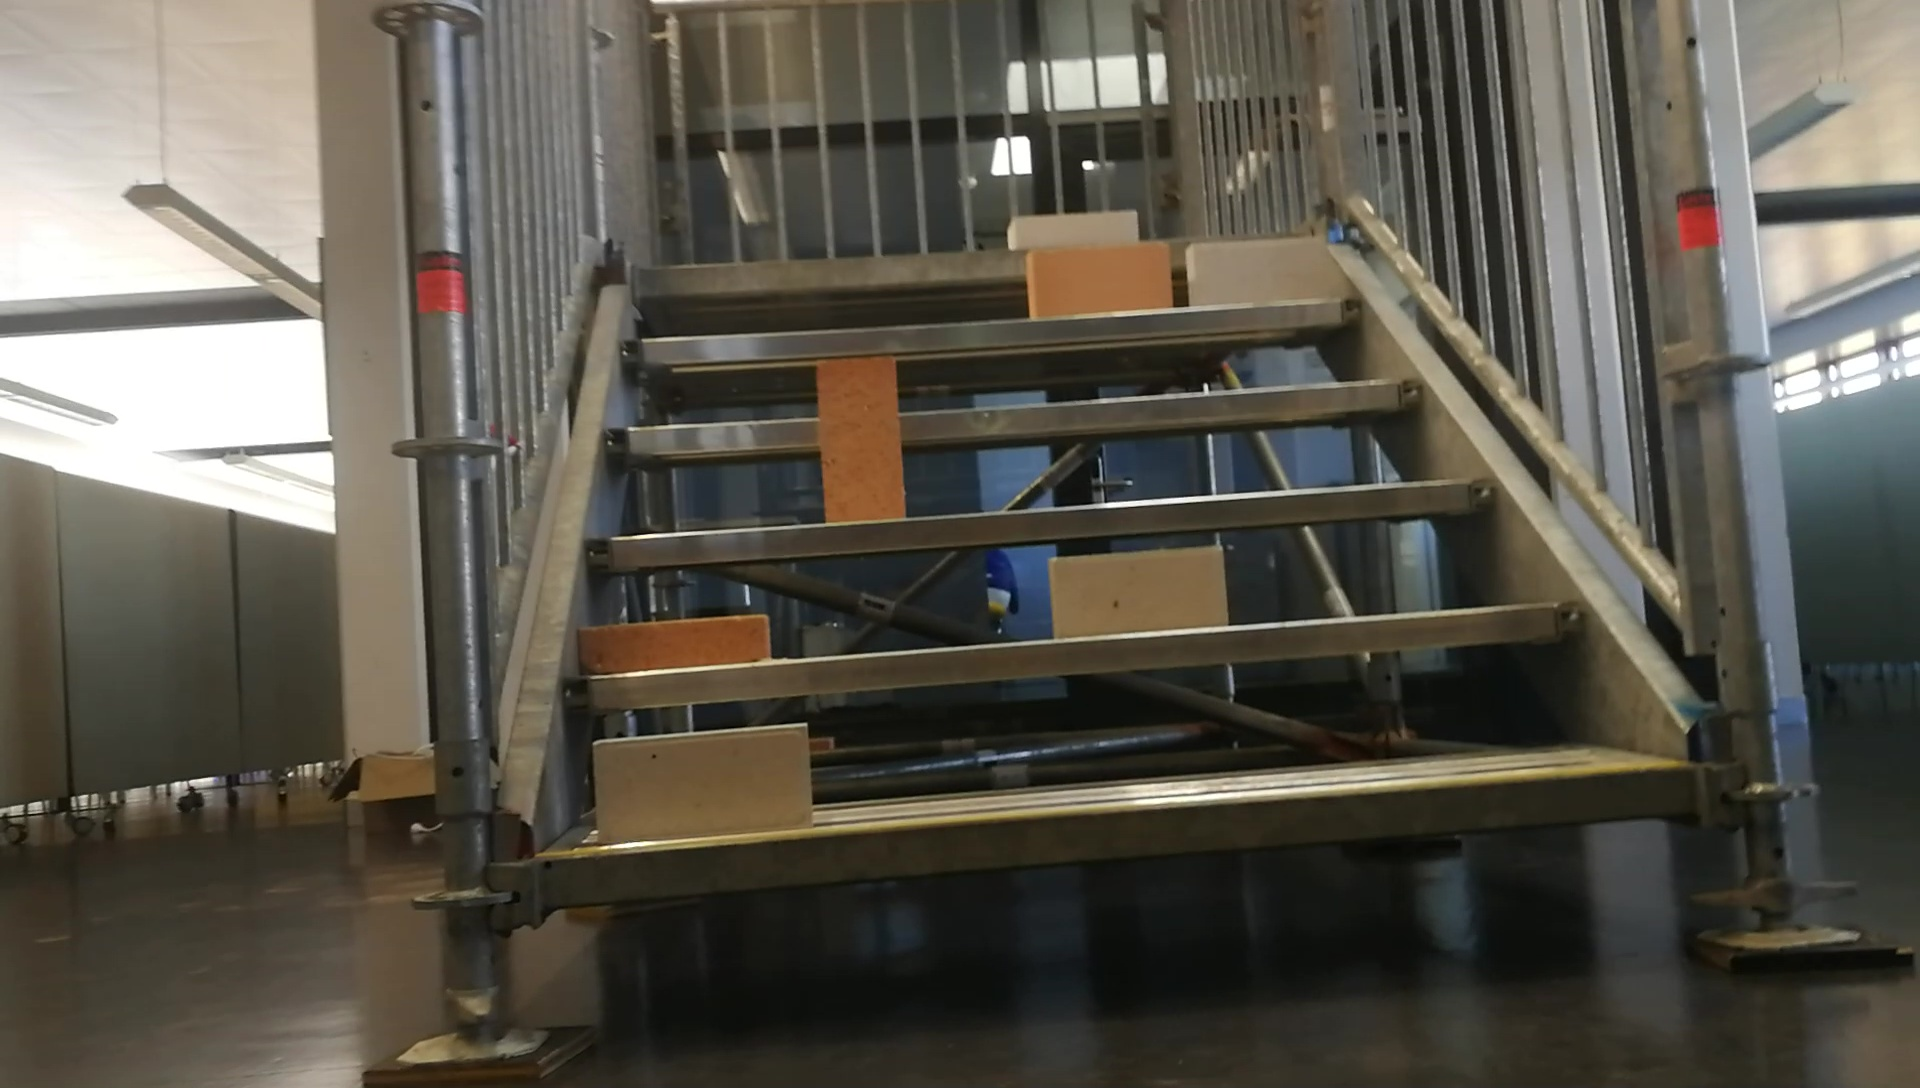brick: (593, 727, 810, 837), (1054, 553, 1220, 638), (818, 360, 905, 521), (1185, 237, 1328, 306), (583, 616, 767, 667), (1029, 245, 1168, 313), (1010, 214, 1135, 251)
edge: (545, 758, 1689, 898), (559, 599, 1590, 706), (584, 479, 1499, 568), (609, 377, 1424, 452), (620, 295, 1362, 360)
stairs: (342, 3, 1911, 1075)
steps: (533, 206, 1702, 921)
